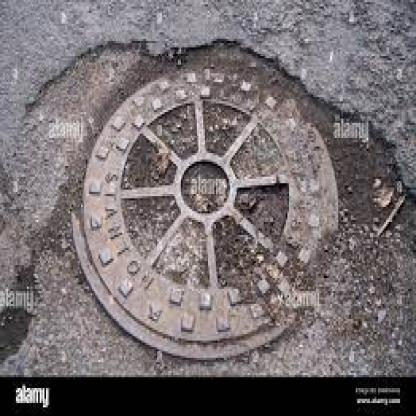closed manhole-not overflowing-: (78, 62, 333, 348)
